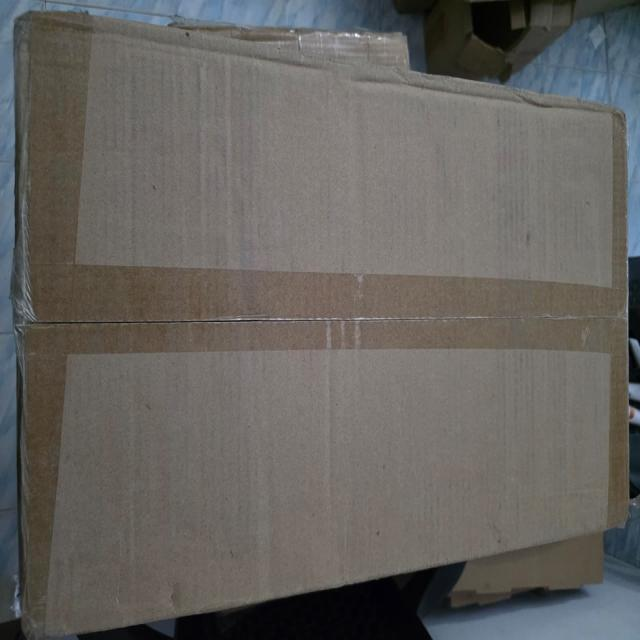carton_box: (4, 3, 639, 640)
package_damage: (6, 3, 39, 624)
